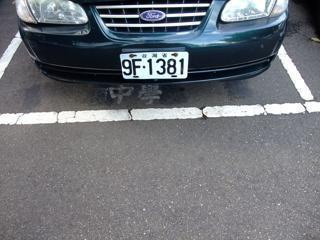plate: (119, 52, 190, 80)
